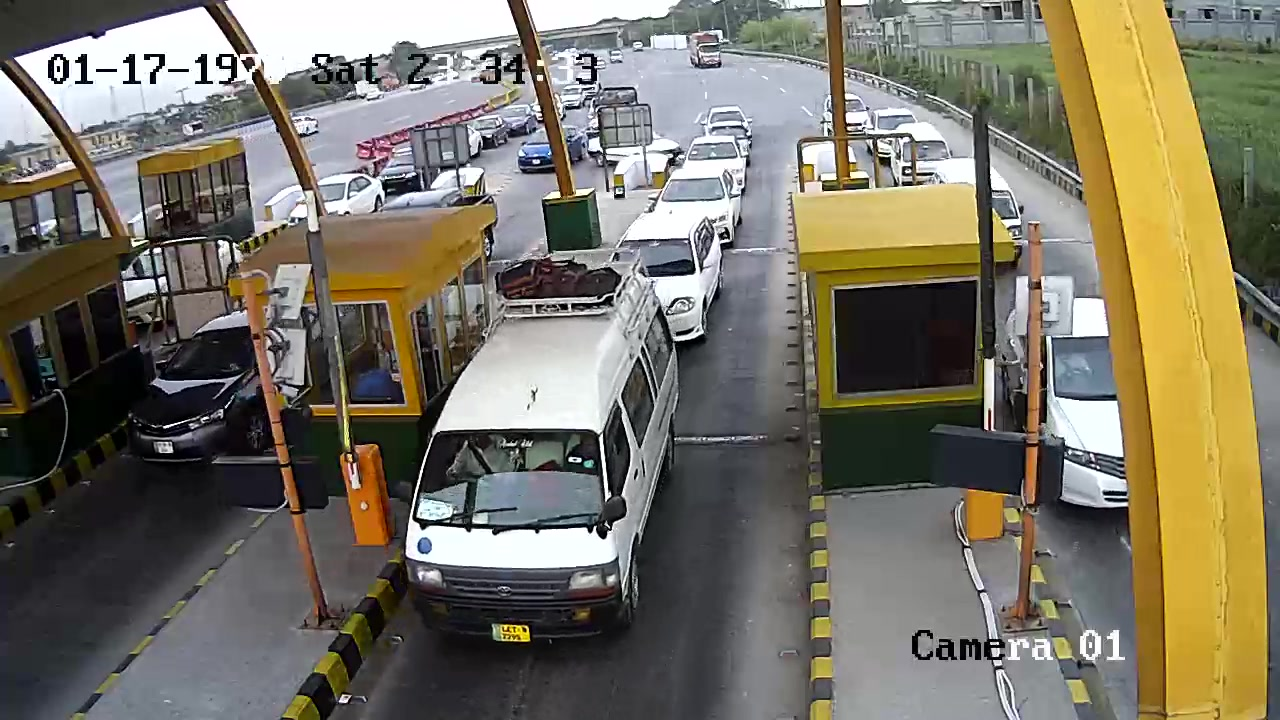F3: (405, 253, 679, 652)
